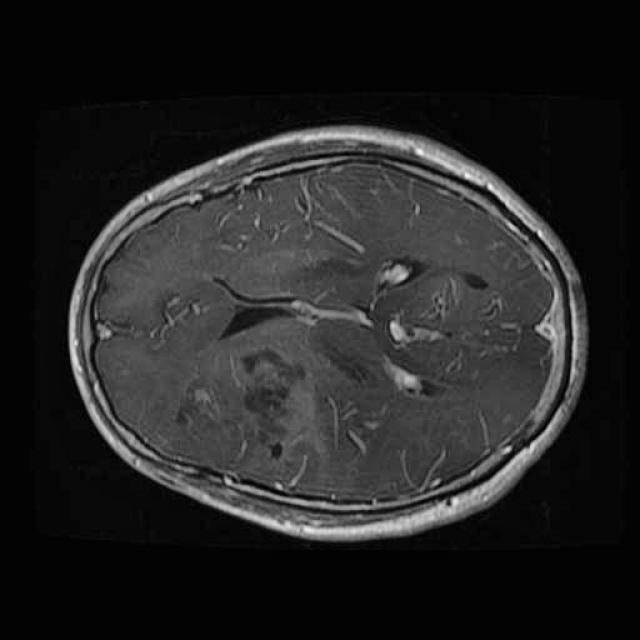Non-Tumor: (174, 325, 328, 499)
